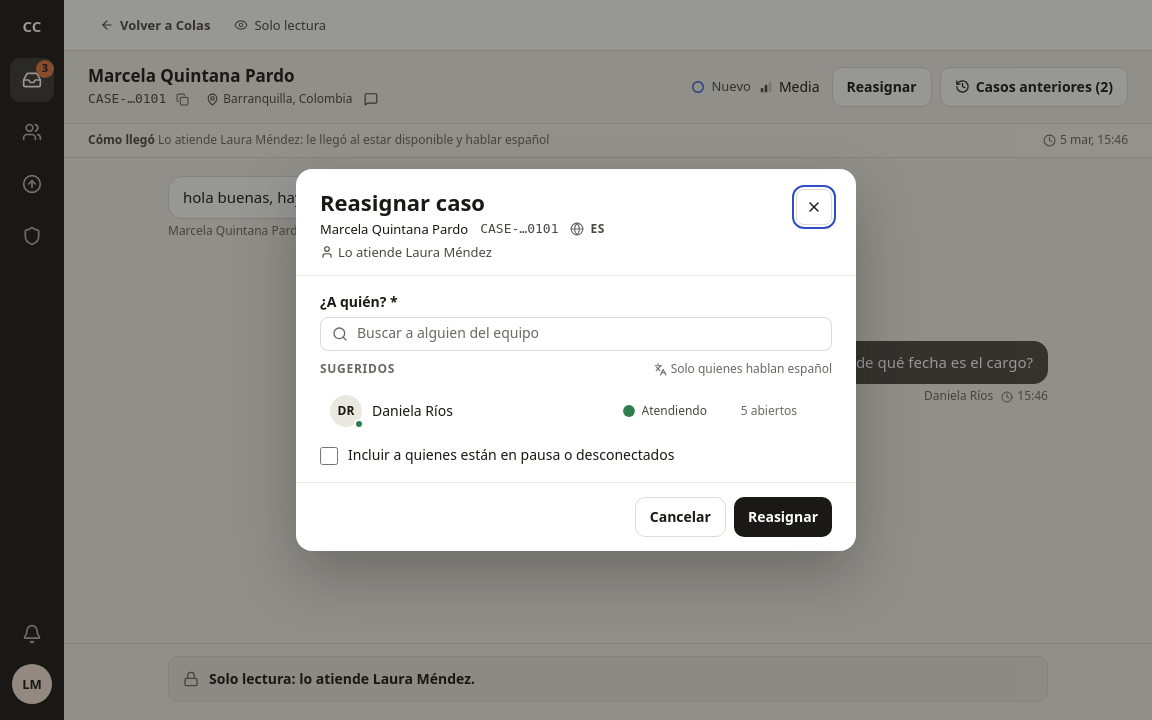
Test case: supervisor case view › closes the dialog when the case was closed meanwhile
// The dialog loads the team (the candidates) first.
Step 1. Click the radio button labelled "DR Daniela Ríos Atendiendo 5 abiertos" → {"x": 346, "y": 411}, box 320,387 -> 832,435
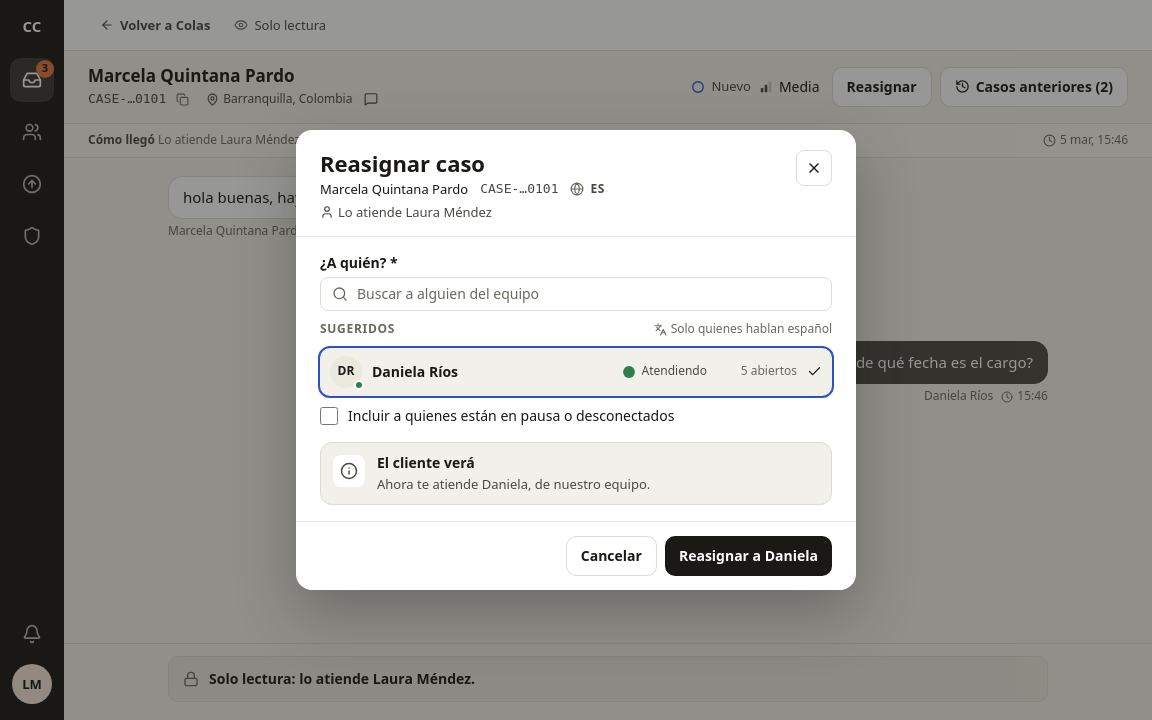
Step 2. Click the button "Reasignar a Daniela" → {"x": 748, "y": 556}, box 665,536 -> 832,576
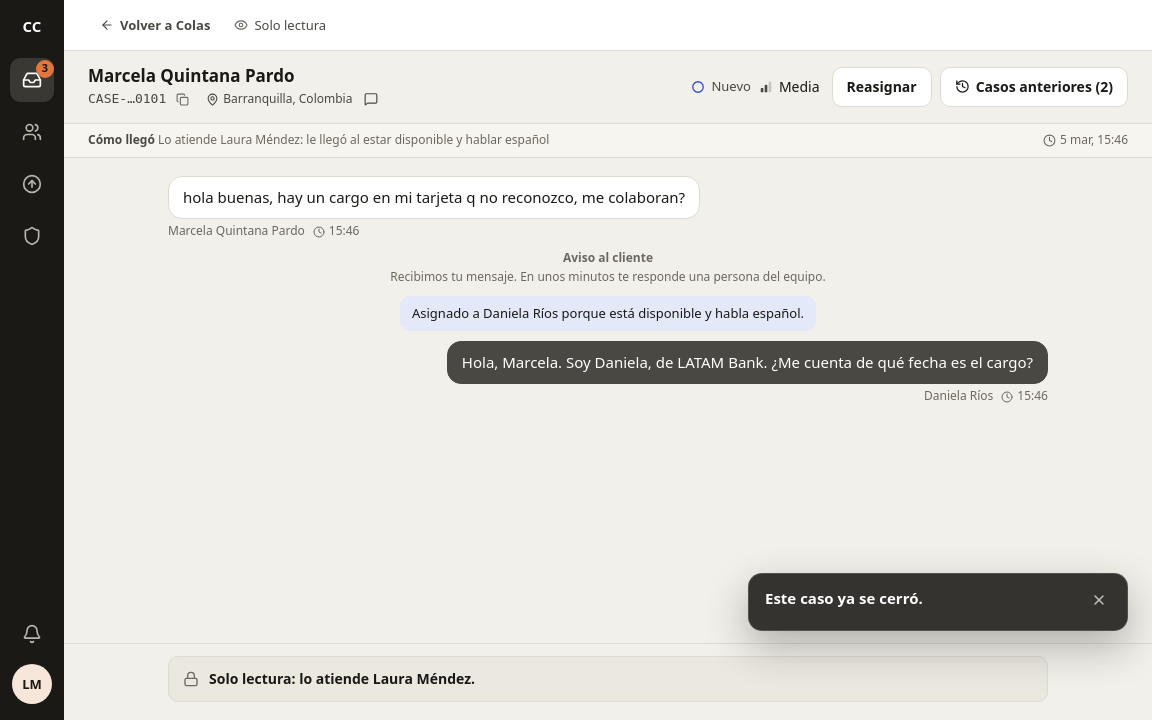
Expected: the text "Este caso ya se cerró." is shown, 765,588 -> 923,610
